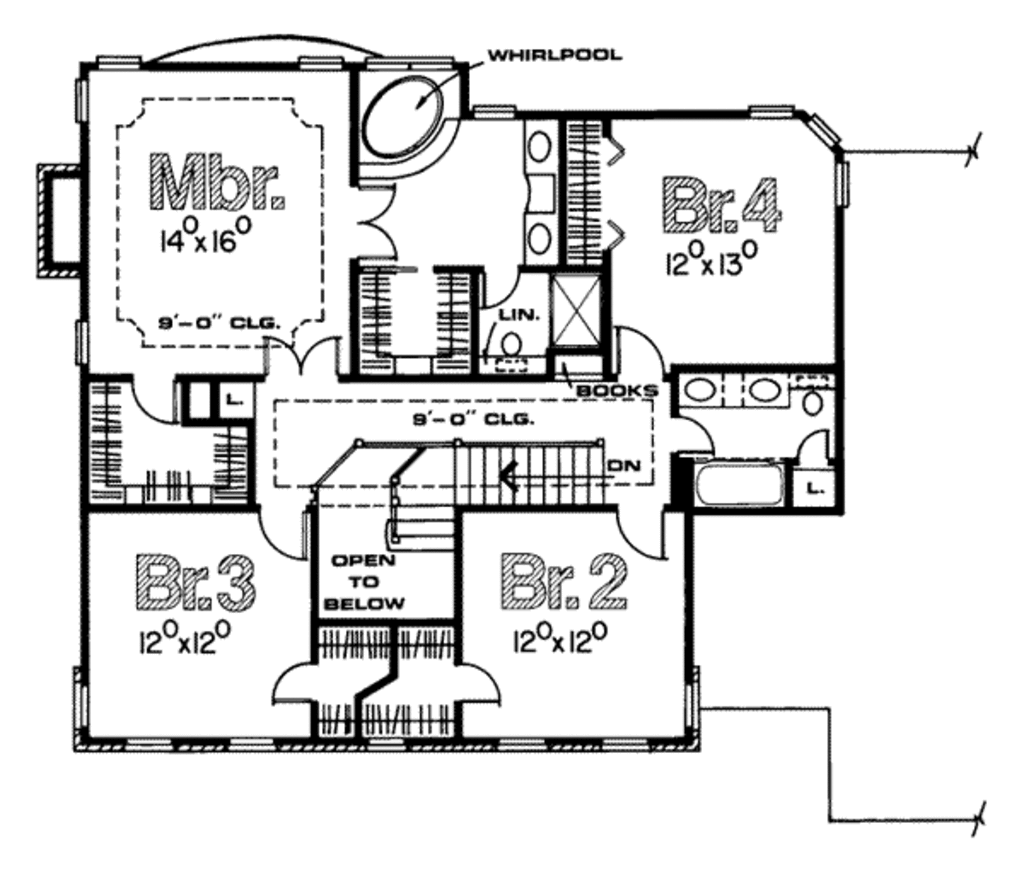door: (258, 332, 343, 386), (352, 179, 399, 263), (613, 504, 670, 565), (126, 375, 185, 432), (614, 324, 669, 385), (255, 501, 307, 564), (451, 658, 503, 708), (269, 661, 319, 707), (670, 411, 716, 458), (474, 266, 523, 310), (790, 425, 835, 462)
large_sink: (490, 328, 535, 376), (794, 371, 835, 417)
small_sink: (517, 116, 564, 267), (678, 368, 793, 413)
stairs: (383, 443, 610, 558)
tub: (360, 73, 458, 173), (692, 460, 786, 511)
window: (686, 664, 707, 740), (94, 52, 148, 76), (357, 733, 410, 757), (498, 735, 548, 760), (73, 74, 94, 131), (71, 316, 92, 370), (225, 735, 281, 755), (834, 157, 854, 209), (291, 54, 348, 70), (600, 736, 650, 754), (745, 102, 795, 120), (119, 737, 176, 751)
